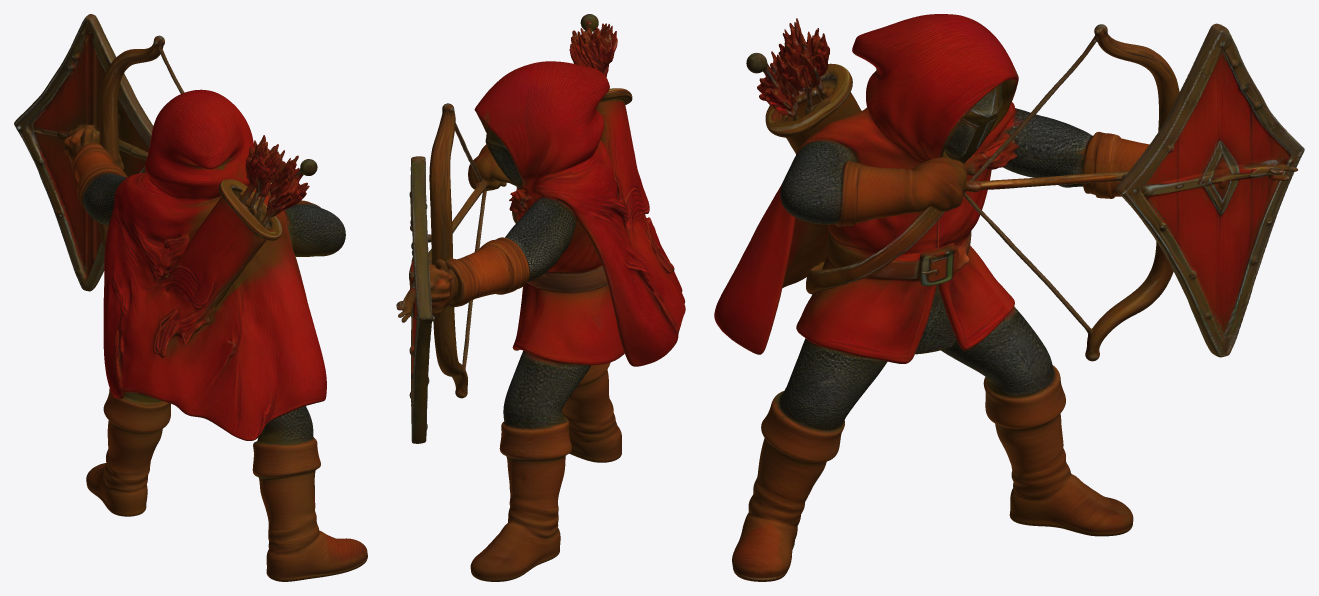
The model's file is Red-Rogue-Pal-figure.glb.
3 views of the same model, side by side, from view 1: azimuth 30°, elevation 25°; view 2: azimuth 150°, elevation 25°; view 3: azimuth 270°, elevation 25° (orthographic). The views are drawn at different scales.
Visible parts, largest first — view 1: tripo_node_dbc6966e-4434-42f9-9165-f9410974a63a; view 2: tripo_node_dbc6966e-4434-42f9-9165-f9410974a63a; view 3: tripo_node_dbc6966e-4434-42f9-9165-f9410974a63a.
Part boxes in pixels (left/top/right/bottom): tripo_node_dbc6966e-4434-42f9-9165-f9410974a63a: left=14, top=14, right=367, bottom=581; tripo_node_dbc6966e-4434-42f9-9165-f9410974a63a: left=396, top=14, right=685, bottom=581; tripo_node_dbc6966e-4434-42f9-9165-f9410974a63a: left=714, top=14, right=1304, bottom=581.
Size of the model in its own units: 0.4616 by 0.9934 by 1.
Materials: 1 (1 with a texture image).
